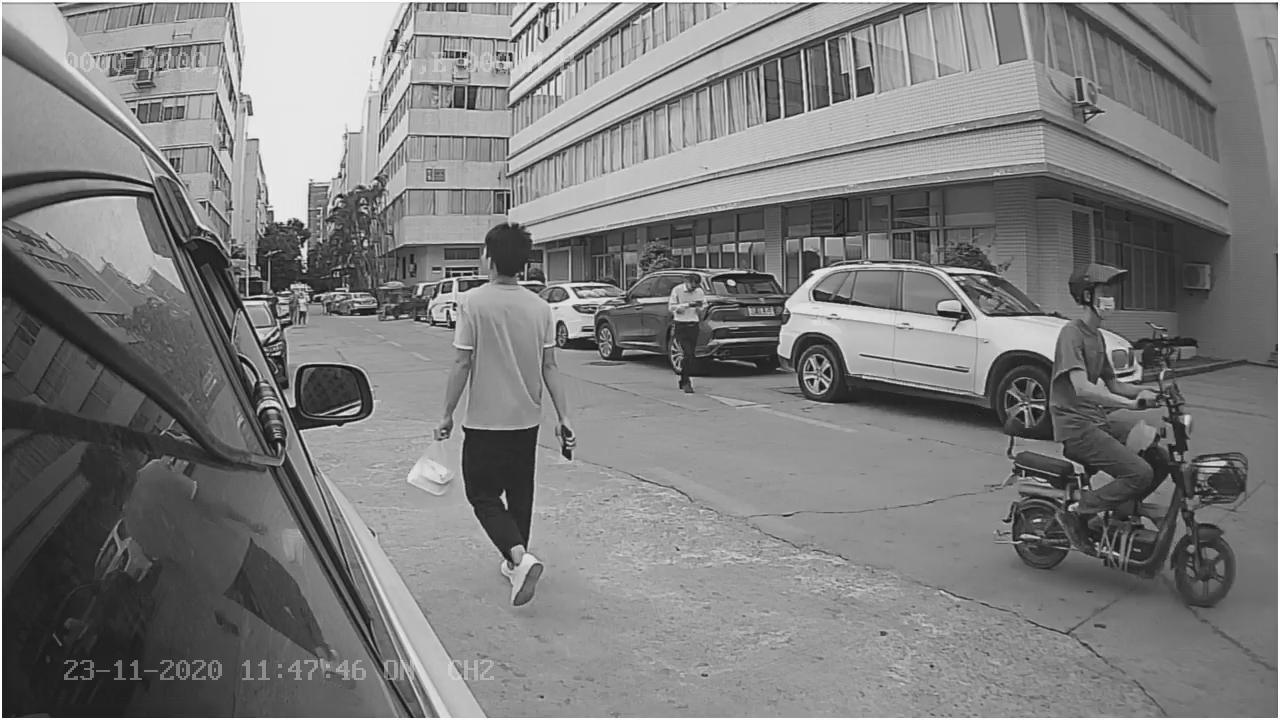person: (433, 211, 578, 605), (1045, 262, 1159, 407)
